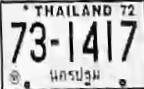1: (106, 20, 111, 62), (68, 21, 73, 62)
3: (29, 21, 46, 62)
4: (81, 20, 98, 61)
7: (10, 21, 26, 63), (120, 19, 136, 61)
NPT: (46, 66, 101, 88)
